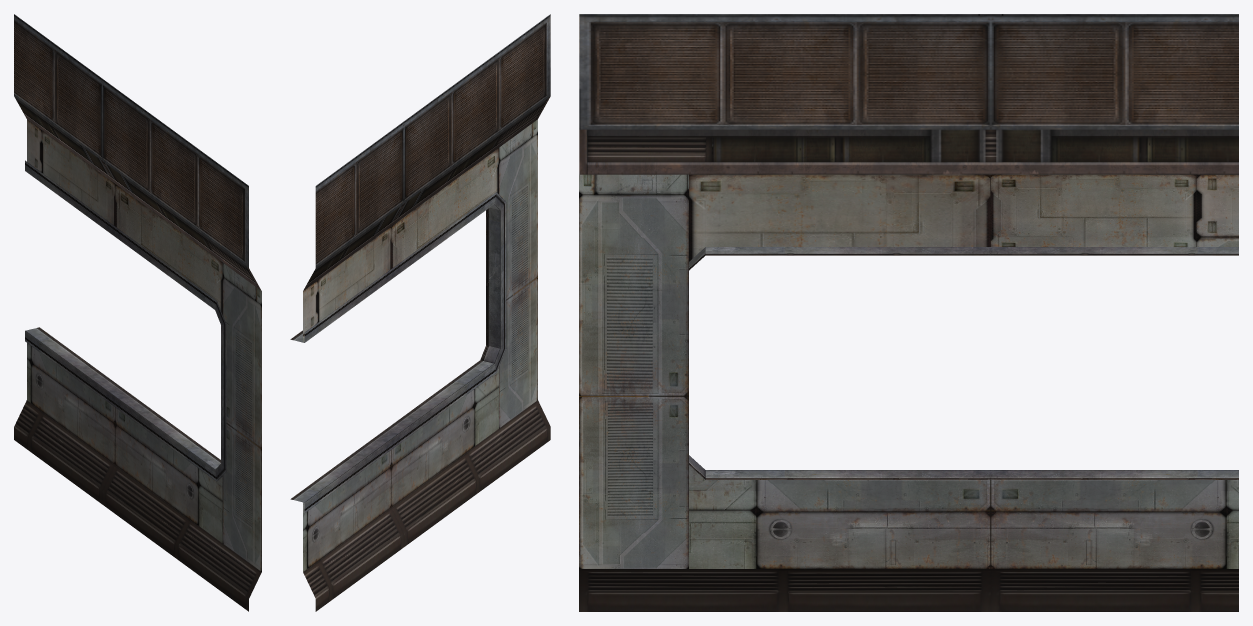
Rendered from Wall_High_new06.fbx.
3 views of the same model, side by side, from view 1: azimuth 30°, elevation 25°; view 2: azimuth 150°, elevation 25°; view 3: azimuth 270°, elevation 25° (orthographic). The views are drawn at different scales.
Parts seen in each view (by area): view 1: Wall_High_new06; view 2: Wall_High_new06; view 3: Wall_High_new06.
Boxes of the visible parts, <box> form: Wall_High_new06: <box>14,14,261,611</box>; Wall_High_new06: <box>290,14,550,611</box>; Wall_High_new06: <box>579,14,1238,611</box>.
Bounding box in the file's own units: 25 × 400 × 400.
